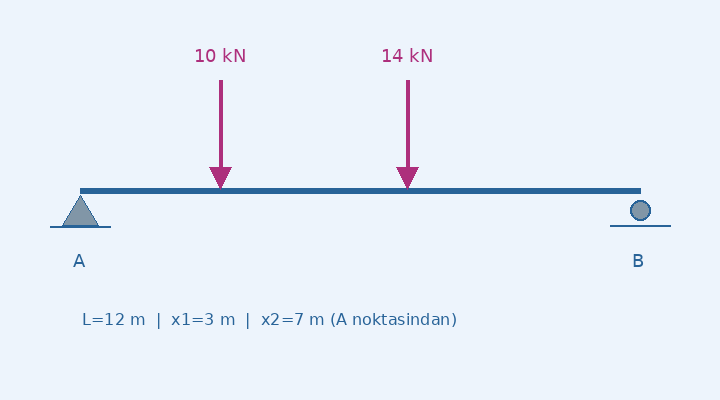pin_support: (61, 190, 99, 226)
point_load: (206, 76, 234, 190), (393, 76, 421, 190)
roller_support: (625, 196, 655, 227)
